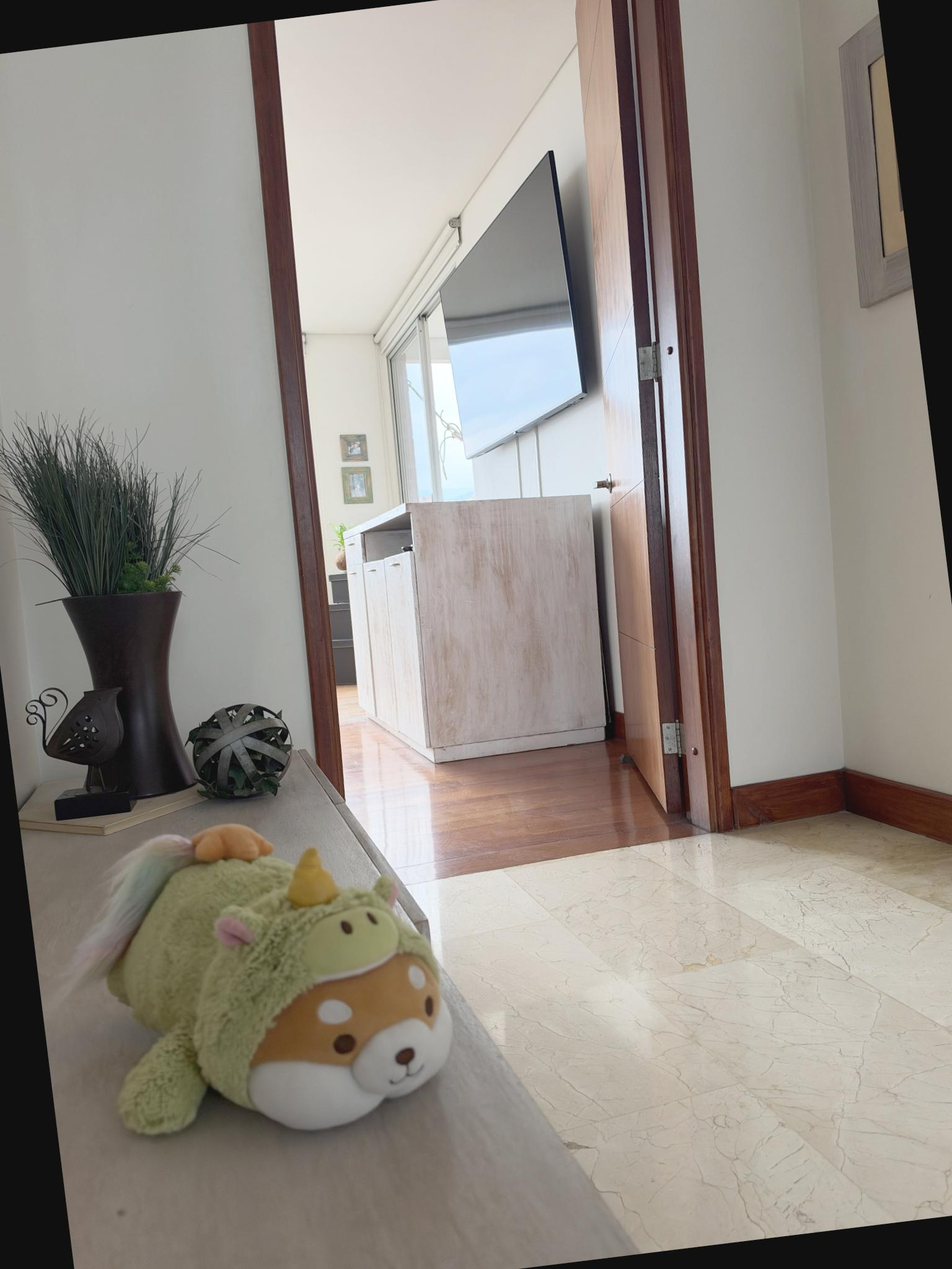peluche_martin: (35, 793, 470, 1163)
